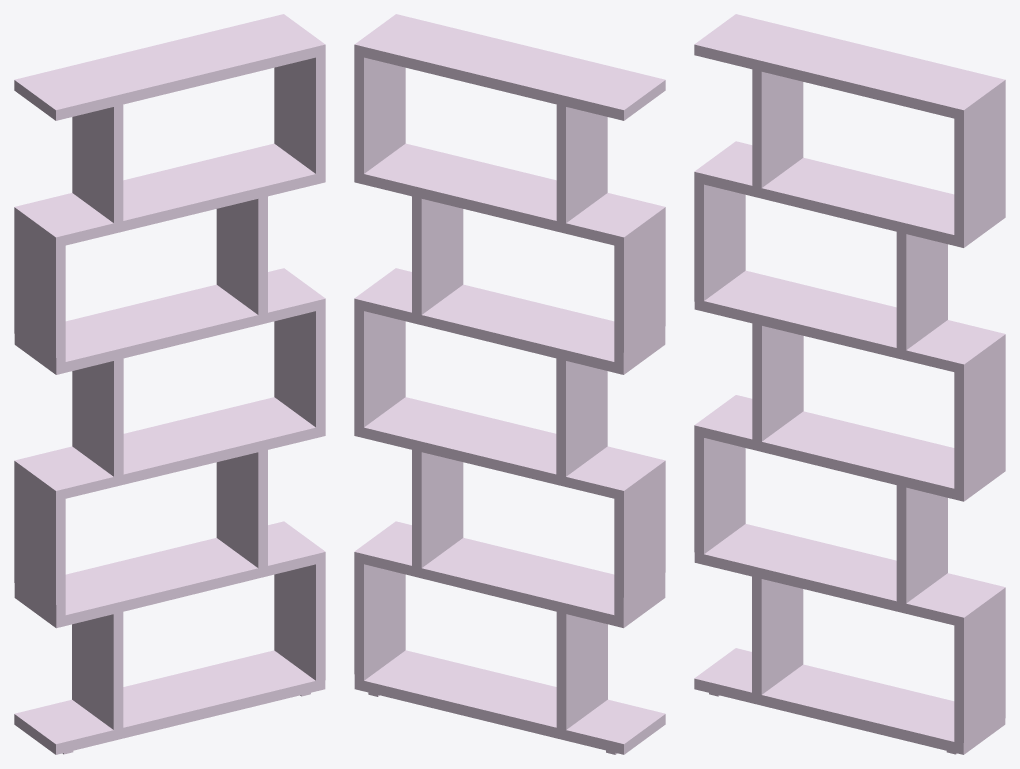
File: Bookshelf.fbx
3 renders of one model, left to right at view 1: azimuth 30°, elevation 25°; view 2: azimuth 150°, elevation 25°; view 3: azimuth 330°, elevation 25°, orthographic.
Visible parts, largest first — view 1: Bookshelf; view 2: Bookshelf; view 3: Bookshelf.
Part boxes in pixels (x1,y1,x2,y2): Bookshelf: (14,14,325,754); Bookshelf: (354,14,665,754); Bookshelf: (694,14,1005,754).
Size of the model in its own units: 1.15 by 2.64 by 0.3071.
